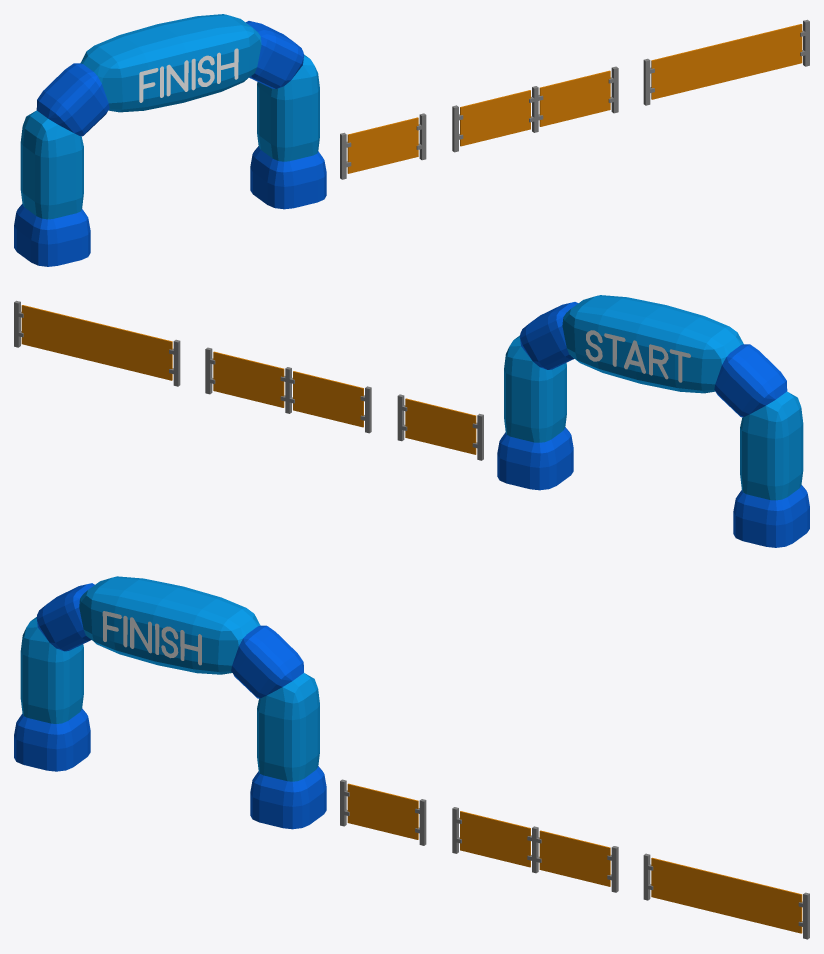
Rendered from Finish.fbx.
The picture shows the model from 3 angles, top to bottom: view 1: azimuth 30°, elevation 25°; view 2: azimuth 150°, elevation 25°; view 3: azimuth 330°, elevation 25°; orthographic projection.
Visible parts, largest first — view 1: Finish, Fence_Finish_03, Fence_Finish_02, Fence_Finish_01; view 2: Finish, Fence_Finish_03, Fence_Finish_02, Fence_Finish_01; view 3: Finish, Fence_Finish_03, Fence_Finish_02, Fence_Finish_01.
Boxes of the visible parts, box(x1,y1,x2,y2) form: Finish: box(14, 14, 326, 266); Fence_Finish_03: box(643, 19, 809, 105); Fence_Finish_02: box(452, 66, 618, 152); Fence_Finish_01: box(340, 113, 426, 179); Finish: box(497, 295, 809, 547); Fence_Finish_03: box(14, 300, 180, 386); Fence_Finish_02: box(205, 347, 371, 433); Fence_Finish_01: box(397, 394, 483, 460); Finish: box(14, 576, 326, 829); Fence_Finish_03: box(643, 853, 809, 939); Fence_Finish_02: box(452, 807, 618, 892); Fence_Finish_01: box(340, 779, 426, 845).
Bounding box in the file's own units: 2419 × 562 × 195.
